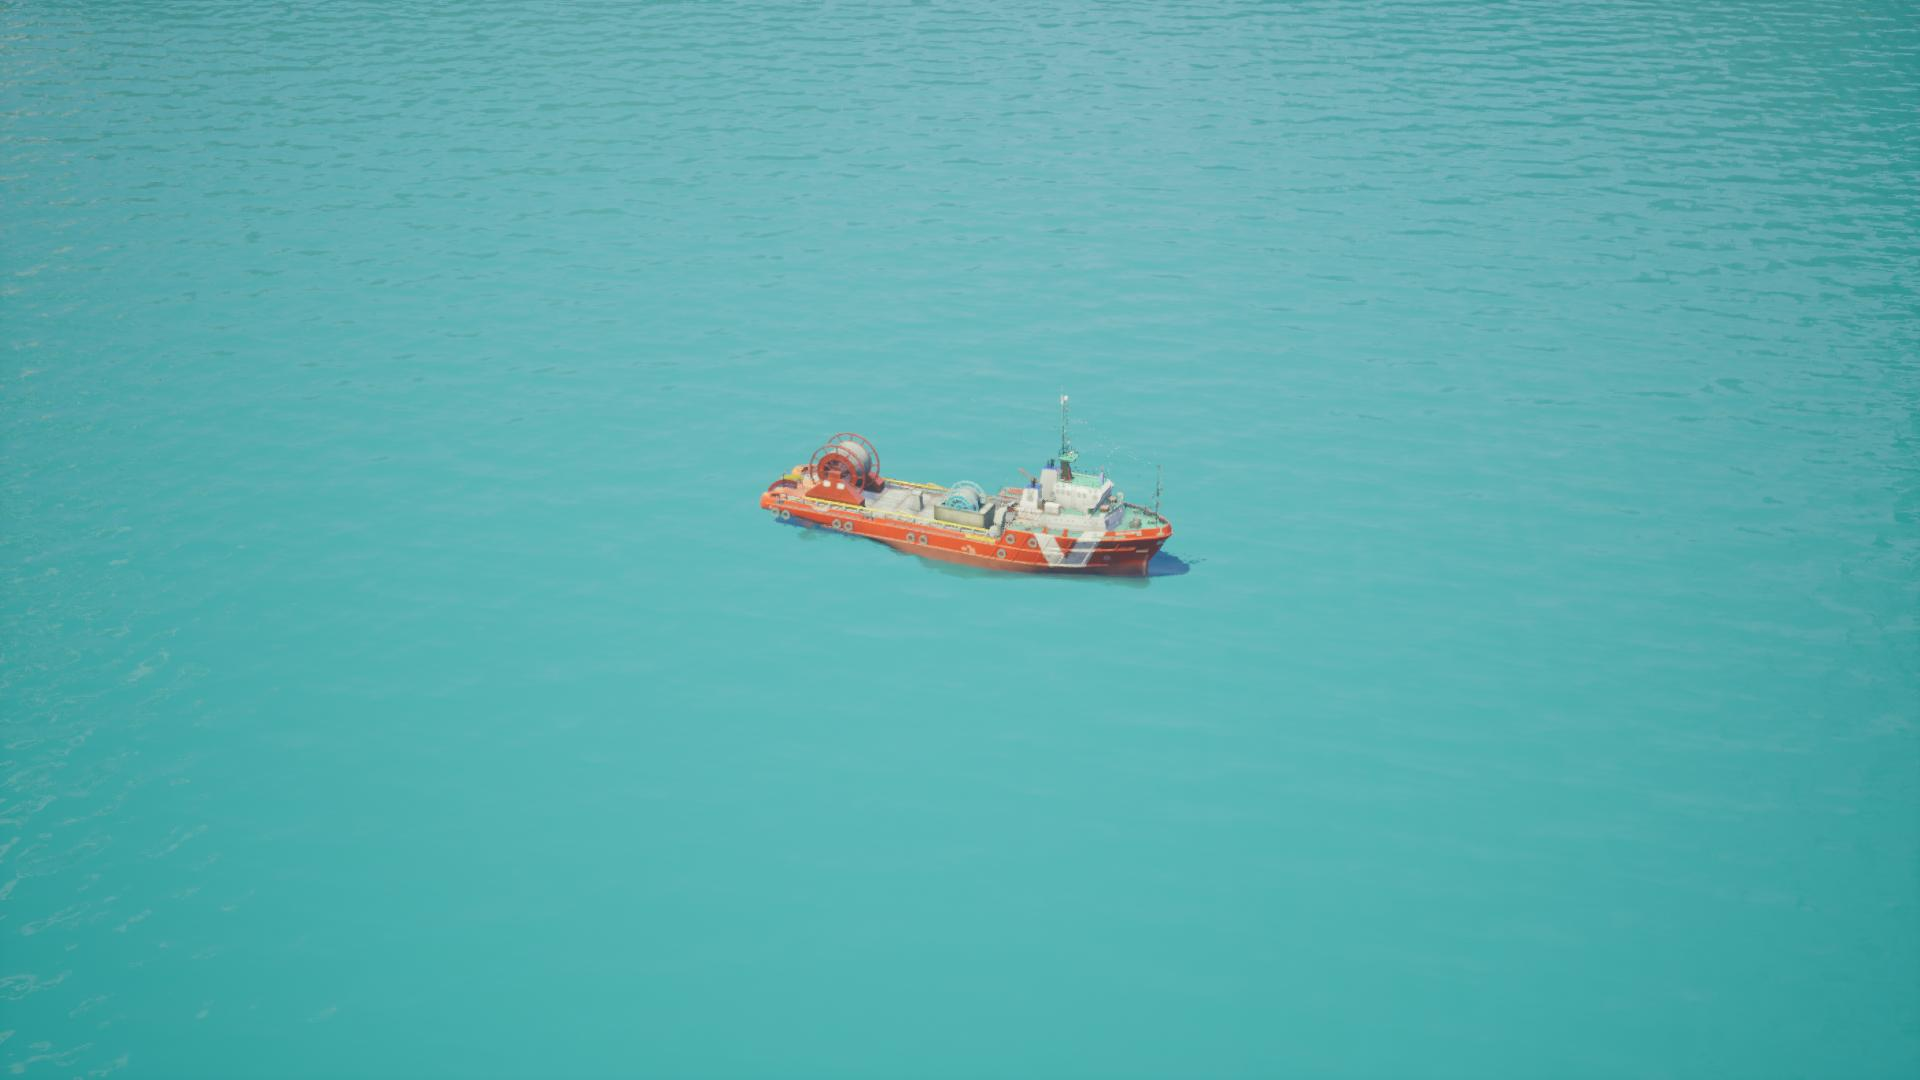Tug Boat: (735, 367, 1217, 674)
